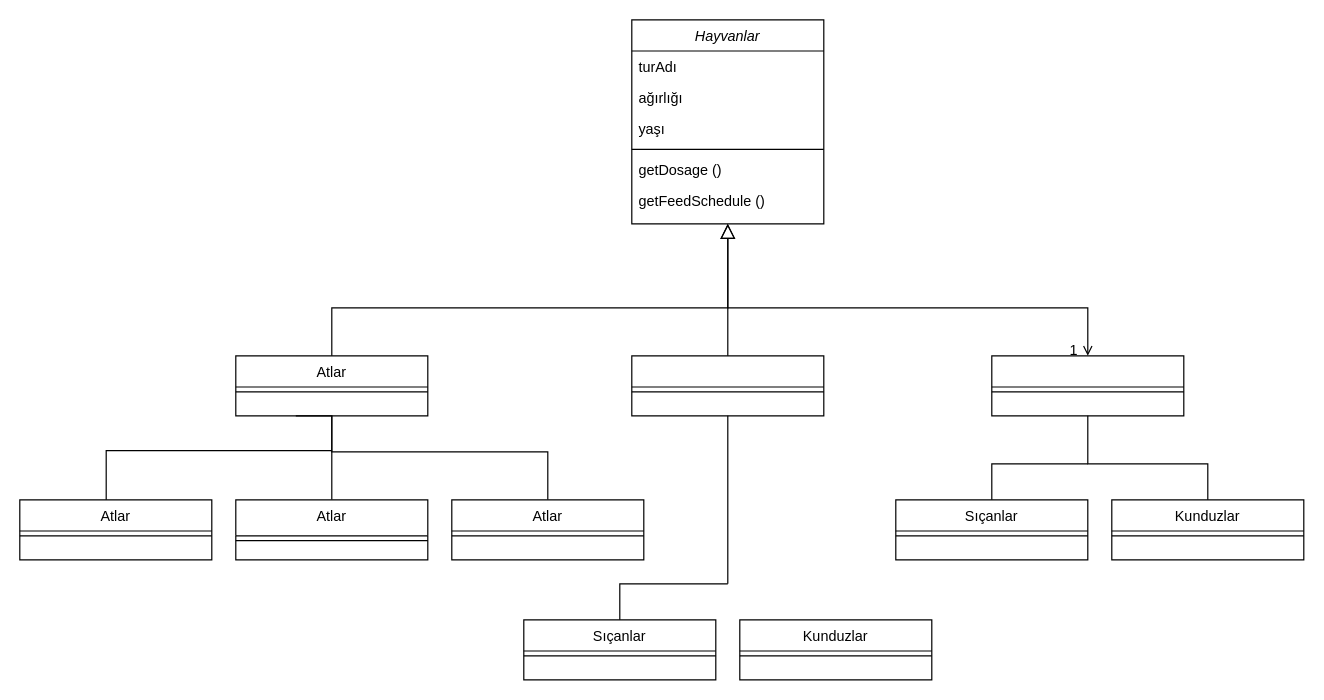
This 1324x700 diagram has some shape labels left out. The shapes that lost their labels are listed below. From the top down, each one's centre as x and y in pixels, then its label:
[727,385]: Kedigiller
[1087,385]: Kemirgenler
